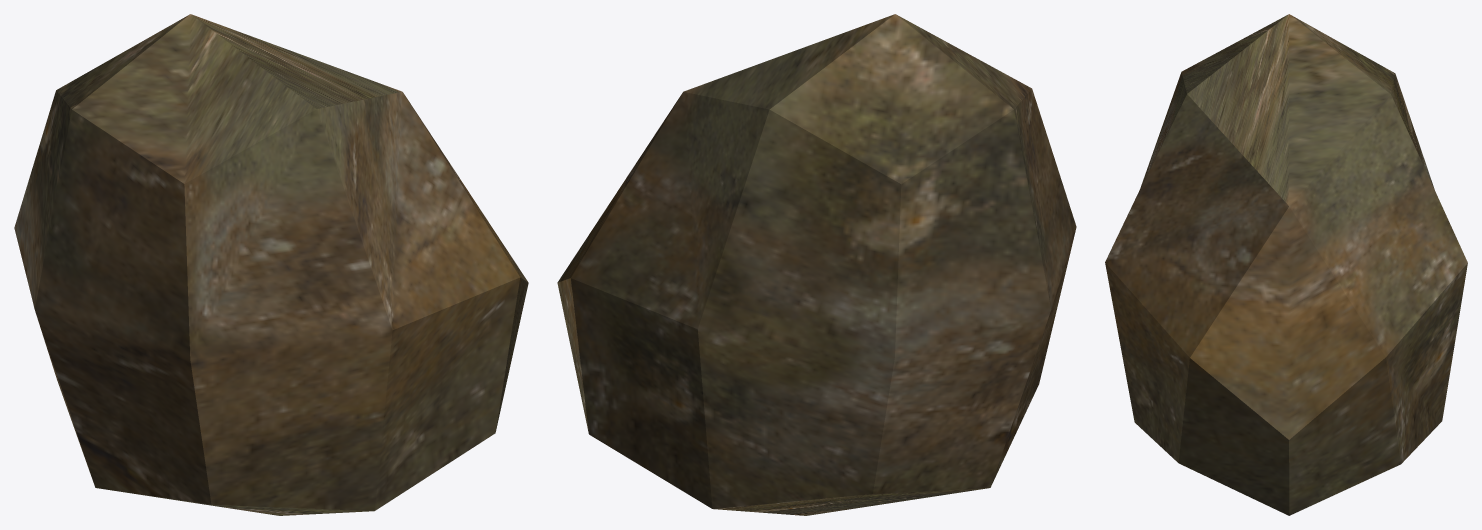
File: rock3.fbx
The picture shows the model from 3 angles, left to right: view 1: azimuth 30°, elevation 25°; view 2: azimuth 150°, elevation 25°; view 3: azimuth 270°, elevation 25°; orthographic projection. The views are drawn at different scales.
Visible parts, largest first — view 1: rock.003; view 2: rock.003; view 3: rock.003.
Boxes of the visible parts, x1,y1,x2,y2 form: rock.003: (14,14,528,515); rock.003: (557,14,1076,515); rock.003: (1105,14,1467,515).
Size of the model in its own units: 0.883 by 0.8947 by 0.6807.
